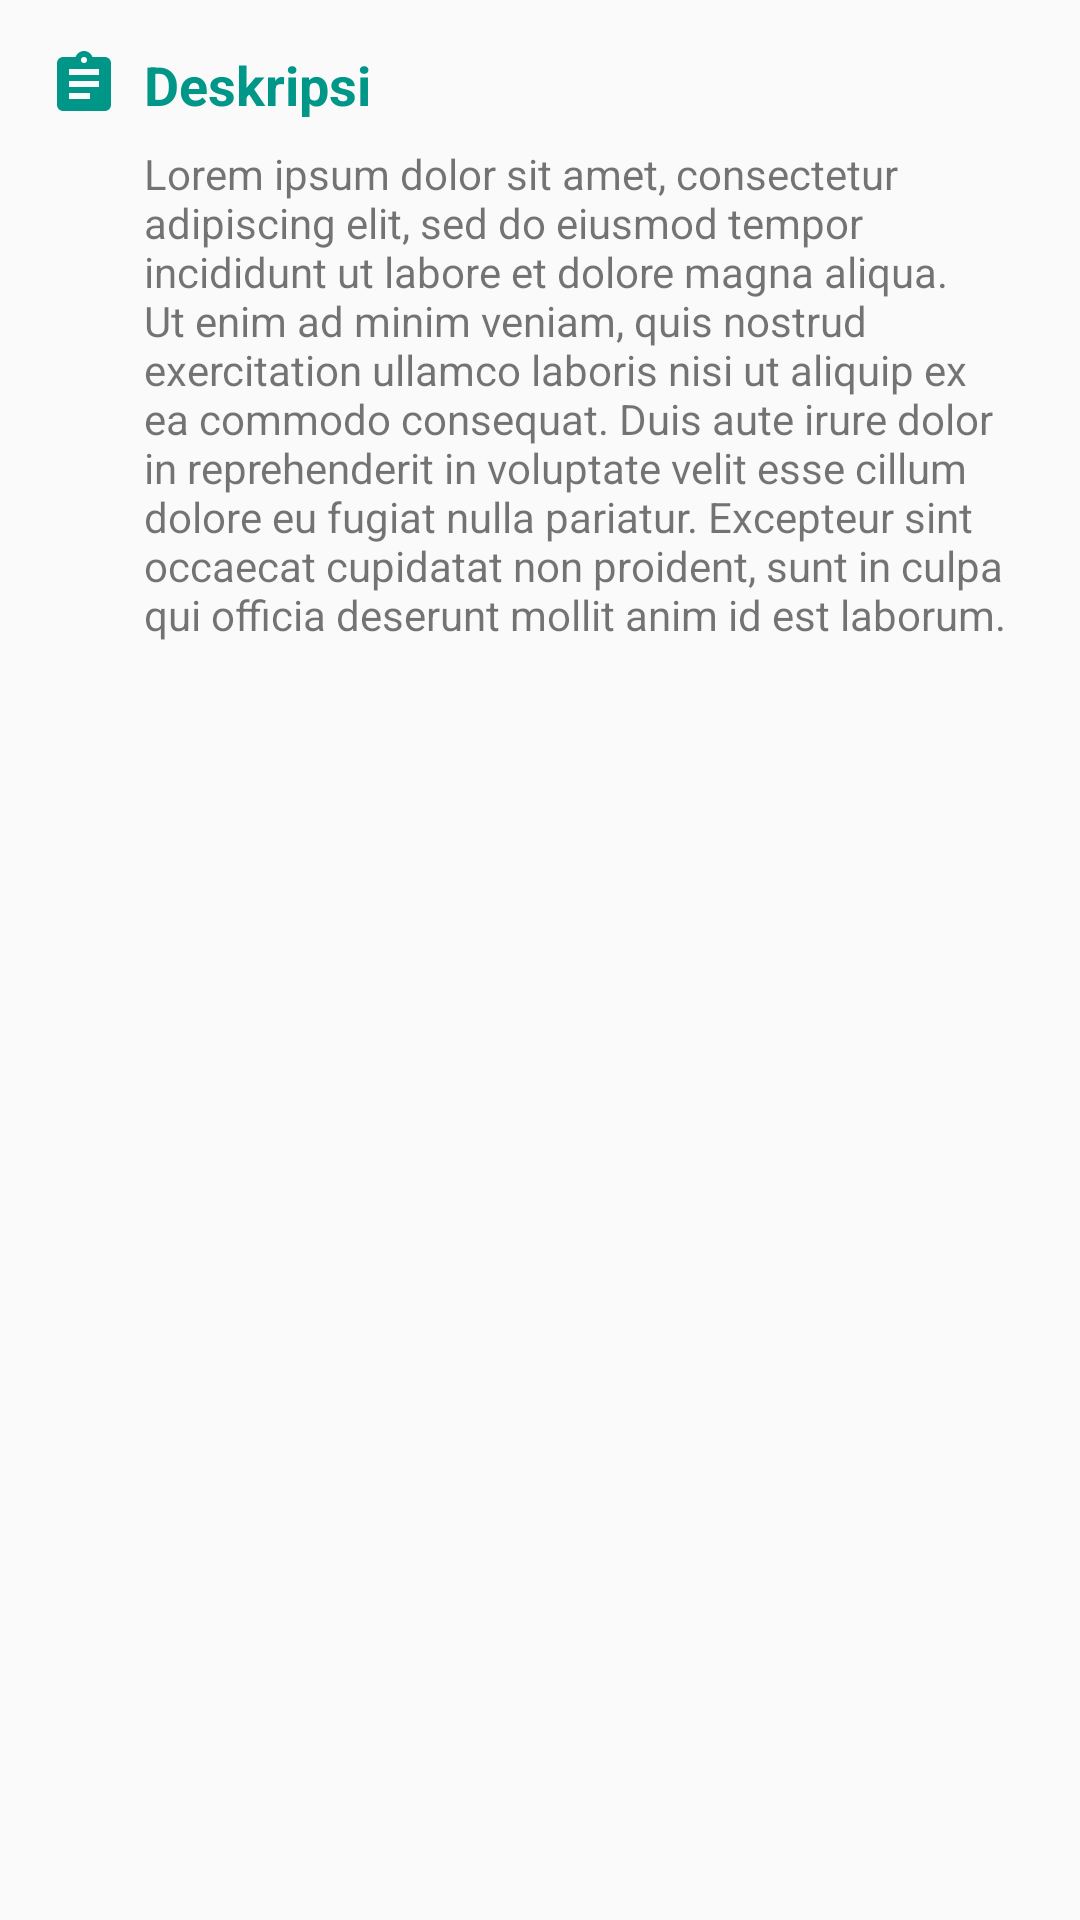

Where to tap for icons on this 1080x1920 app screen, as point (x, y):
clipboard: point (84, 81)
